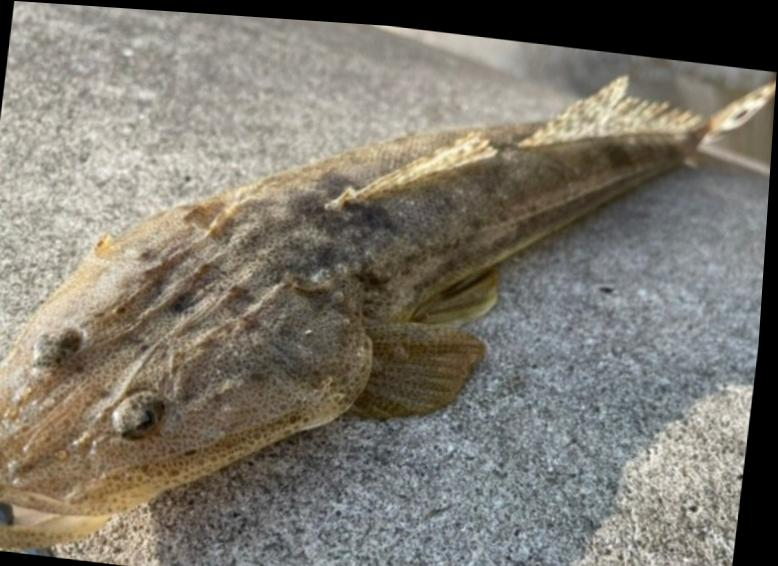fish: (0, 67, 776, 552)
